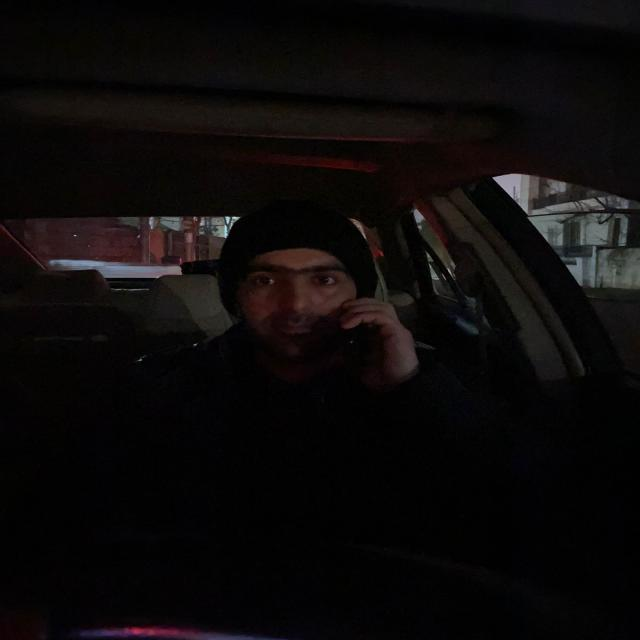person: (210, 227, 368, 356)
